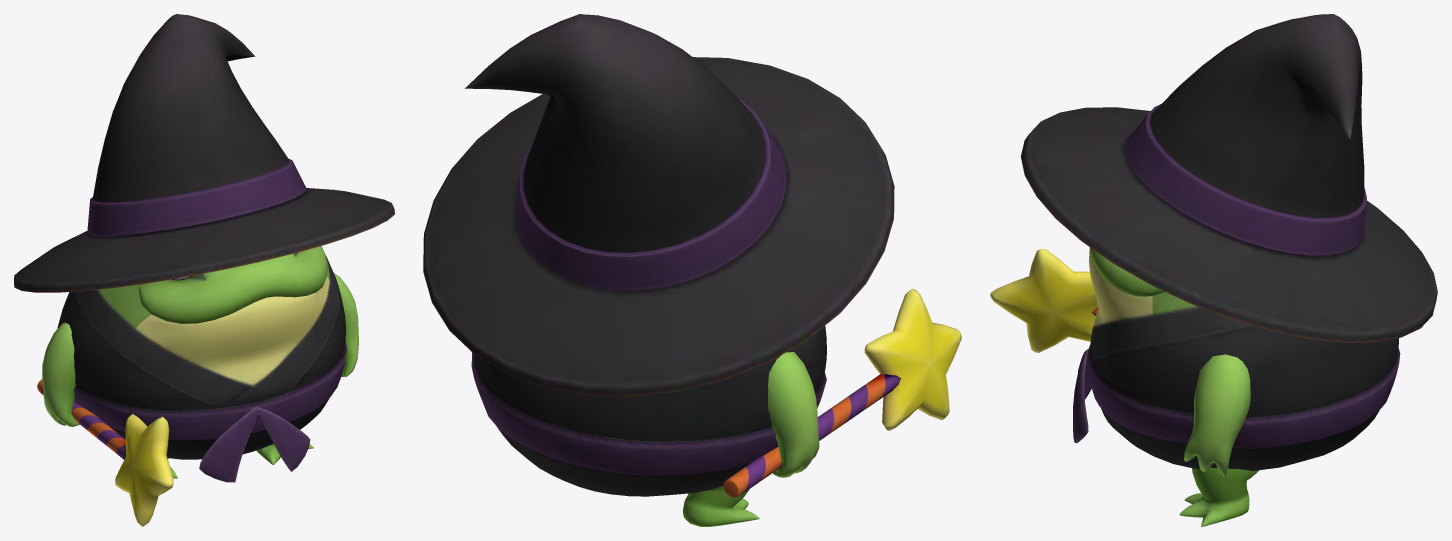
File: kendofrog_skin001_90f87e.glb
3 views of the same model, side by side, from view 1: azimuth 30°, elevation 25°; view 2: azimuth 150°, elevation 25°; view 3: azimuth 270°, elevation 25° (orthographic). The views are drawn at different scales.
Size of the model in its own units: 1.4 by 1.63 by 1.41.
4 materials, 4 textured.
